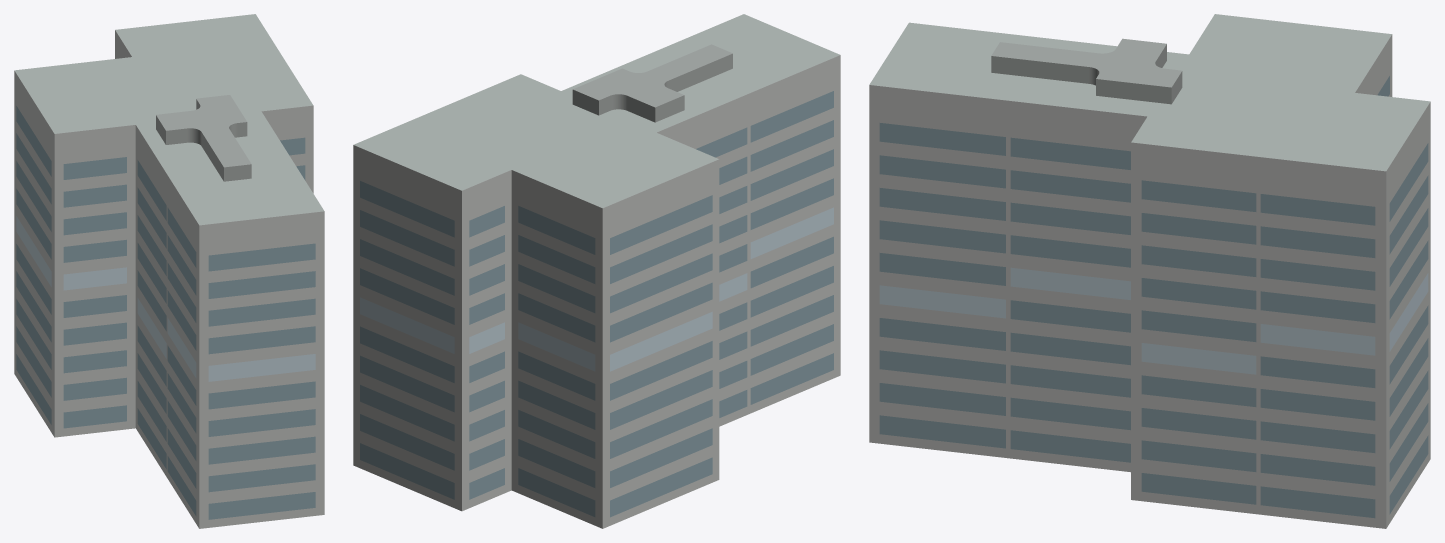
Rendered from apt-a10020258.glb.
3 renders of one model, left to right at view 1: azimuth 30°, elevation 25°; view 2: azimuth 150°, elevation 25°; view 3: azimuth 270°, elevation 25°, orthographic. The views are drawn at different scales.
Parts seen in each view (by area): view 1: apt-a10020258; view 2: apt-a10020258; view 3: apt-a10020258.
Part boxes in pixels (x1,y1,x2,y2): apt-a10020258: [14, 14, 324, 528]; apt-a10020258: [353, 14, 840, 528]; apt-a10020258: [869, 14, 1430, 528].
Bounding box in the file's own units: 27.95 × 31 × 42.13.
